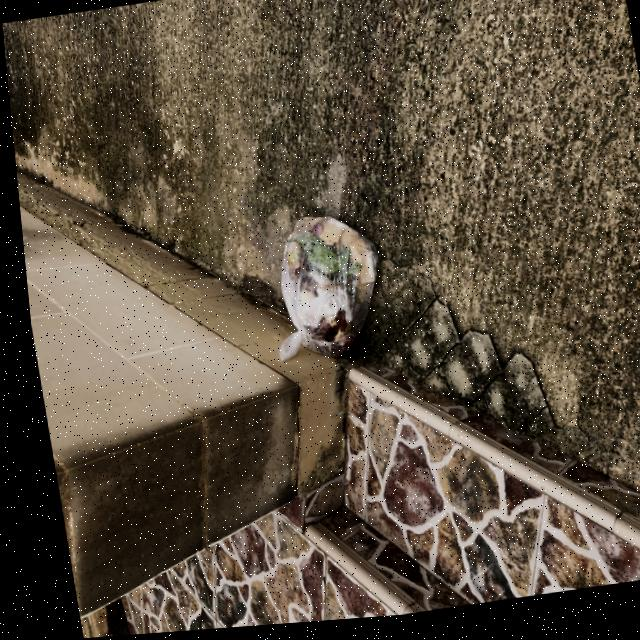Organic Waste -White Bag-: (249, 204, 388, 379)
